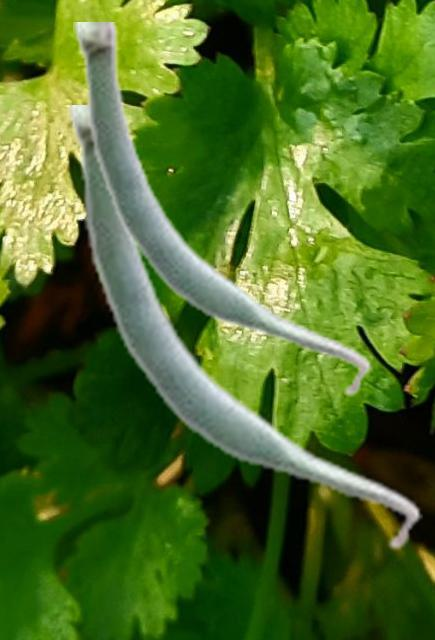french_bean: (67, 105, 421, 552), (73, 22, 371, 398)
